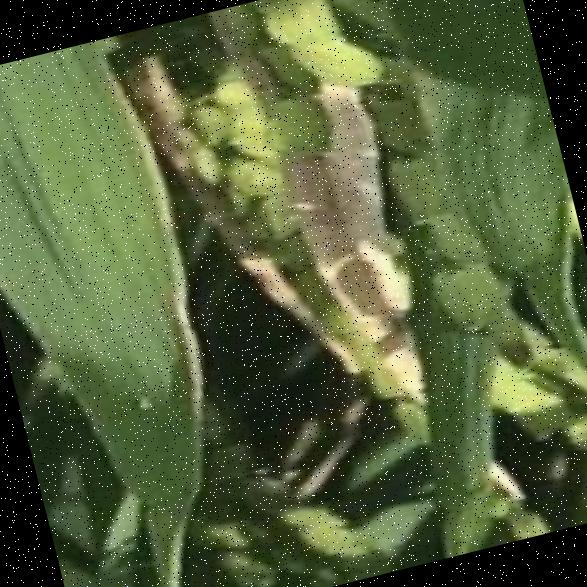Bacteria_Leaf_Blight: (0, 56, 216, 446)
